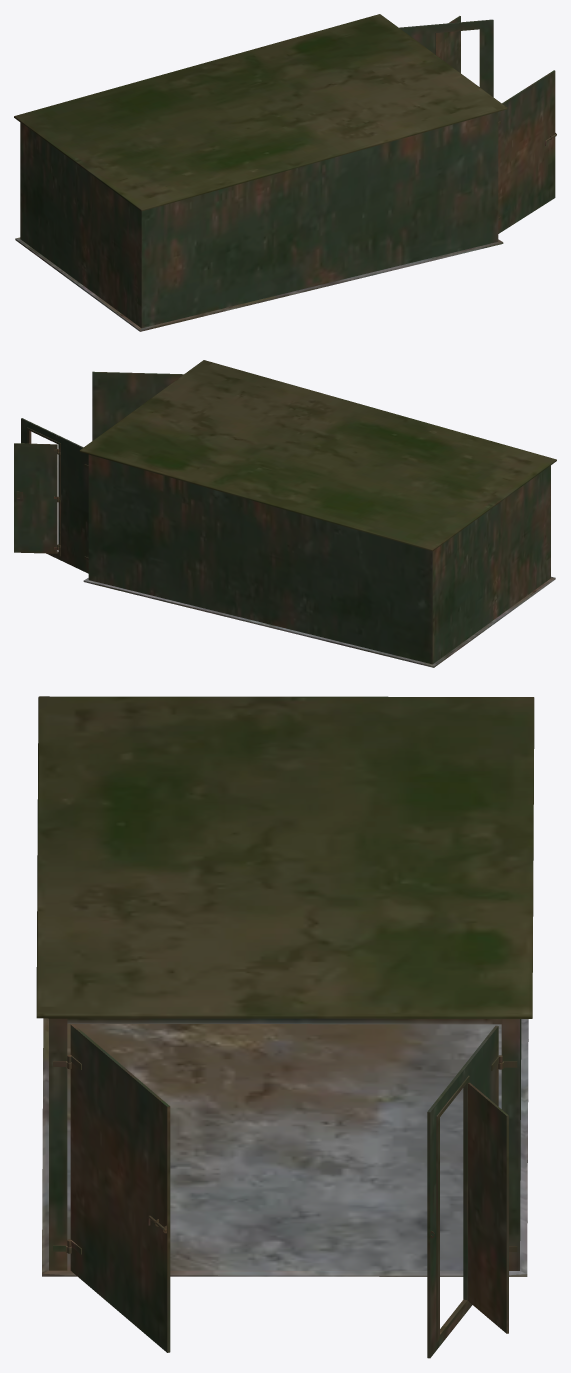
The model's file is garage_c.glb.
The picture shows the model from 3 angles, top to bottom: view 1: azimuth 30°, elevation 25°; view 2: azimuth 150°, elevation 25°; view 3: azimuth 270°, elevation 25°; orthographic projection. The views are drawn at different scales.
Visible parts, largest first — view 1: garage_3; view 2: garage_3; view 3: garage_3.
Part boxes in pixels (x1,y1,x2,y2): garage_3: (14,14,556,331); garage_3: (14,360,556,667); garage_3: (36,696,534,1358).
Bounding box in the file's own units: 7.12 × 2.05 × 3.5.
1 material, 1 textured.
